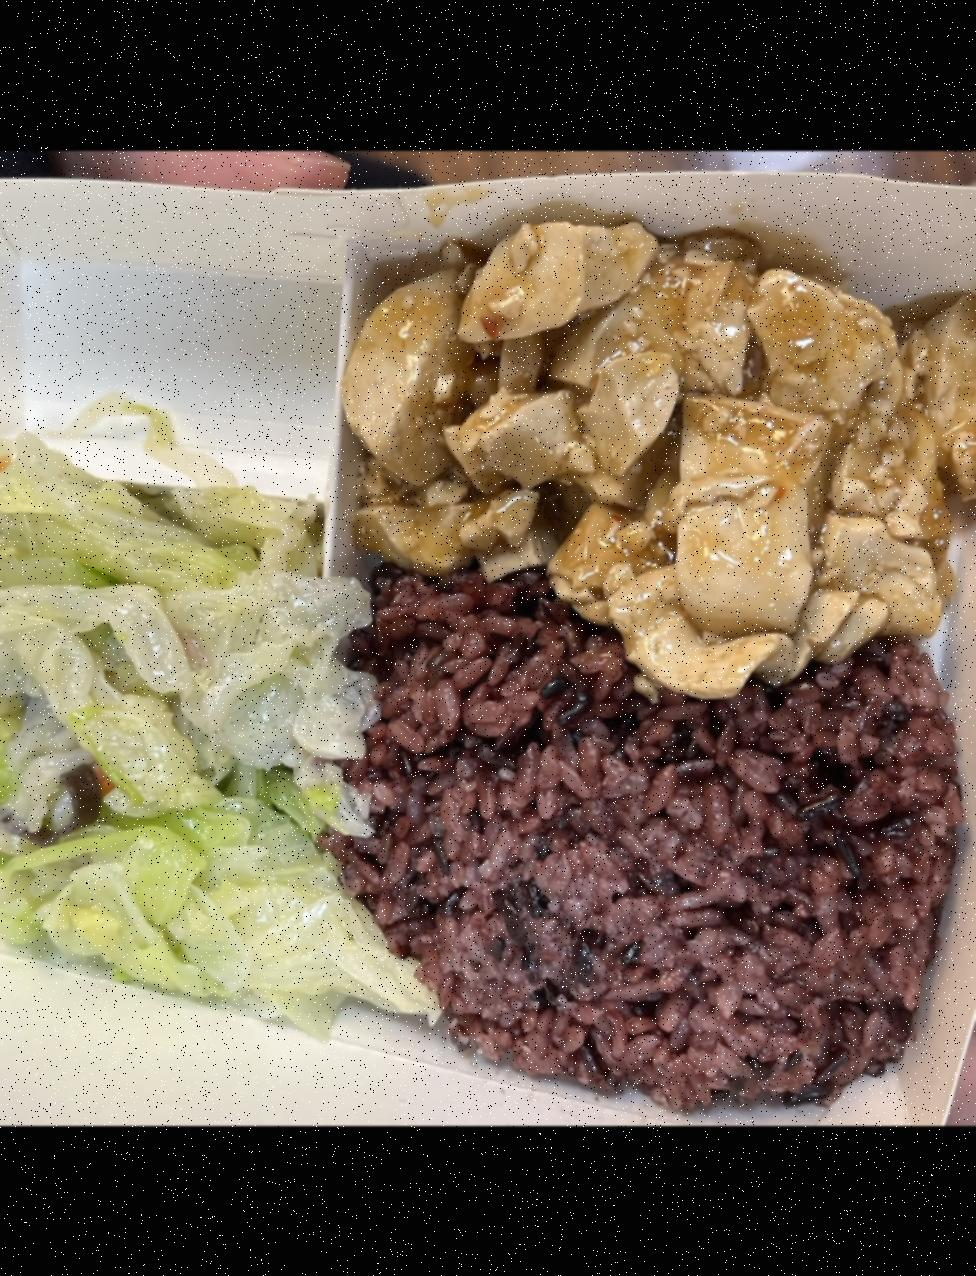big grilled chicken leg: (0, 150, 976, 1124)
braised fish: (328, 555, 970, 1103)
braised fish fillet: (335, 228, 976, 693), (0, 695, 432, 1034), (0, 448, 340, 762)
